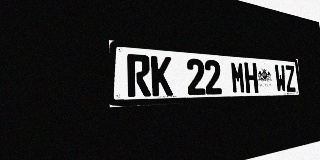2: (186, 58, 205, 95), (204, 59, 222, 95)
H: (244, 62, 258, 93)
K: (151, 55, 173, 96)
M: (230, 61, 246, 94)
R: (127, 54, 151, 97)
W: (274, 64, 287, 92)
Z: (285, 65, 296, 92)
